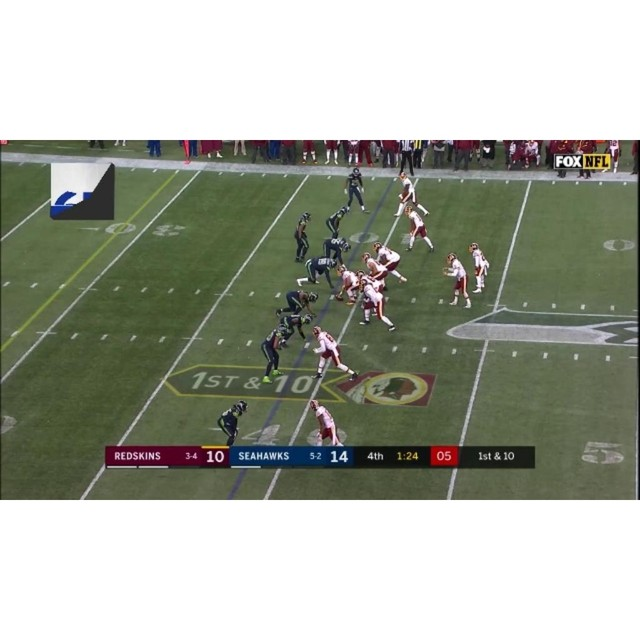american-football-player: (312, 326, 357, 380), (359, 281, 397, 332), (394, 170, 429, 218), (261, 323, 289, 383), (309, 399, 344, 447), (443, 252, 472, 308), (372, 240, 407, 285), (217, 399, 248, 447), (404, 205, 434, 252), (297, 256, 339, 289), (276, 289, 318, 319), (468, 241, 490, 293), (278, 313, 312, 346), (344, 167, 368, 213), (334, 265, 361, 304), (293, 211, 311, 262), (359, 253, 389, 283), (321, 237, 350, 267), (326, 205, 350, 239), (356, 271, 387, 295)
